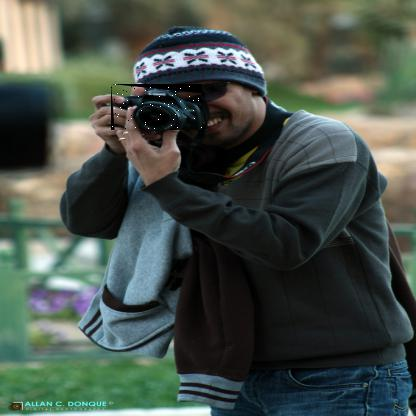Camera: (112, 85, 204, 132)
